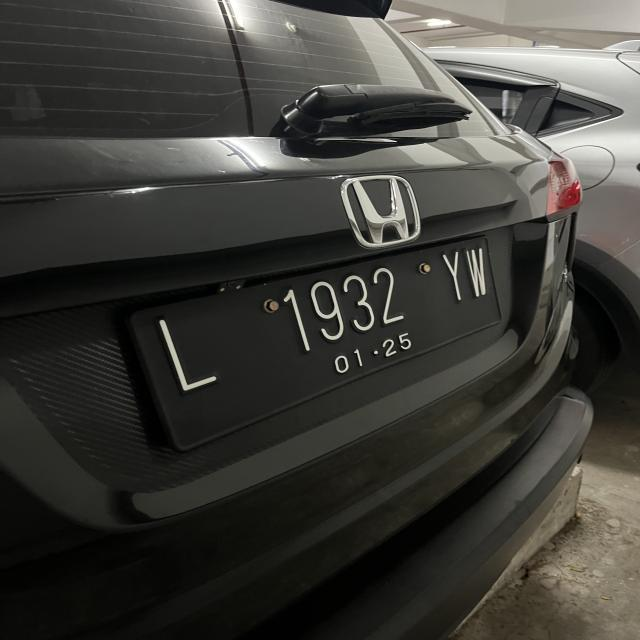1: (277, 285, 311, 356)
2: (375, 262, 405, 328)
3: (344, 272, 374, 337)
9: (310, 276, 345, 348)
L: (151, 314, 222, 393)
W: (466, 244, 490, 300)
Y: (440, 248, 461, 308)
